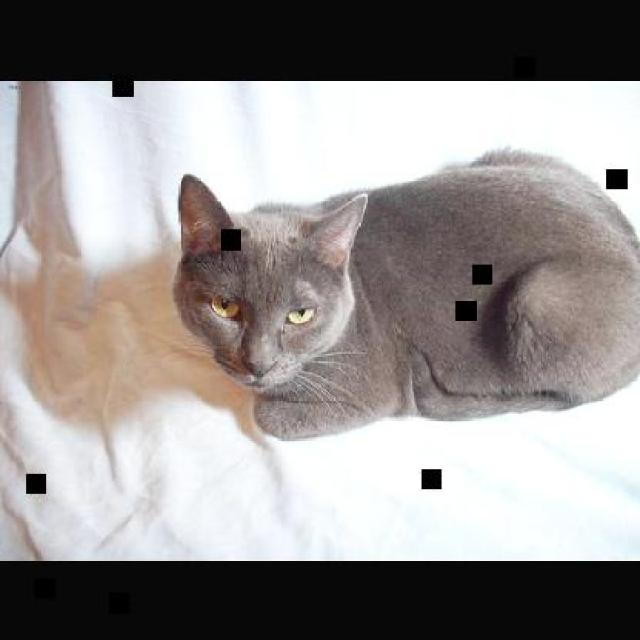unauthorized: (171, 145, 638, 440)
